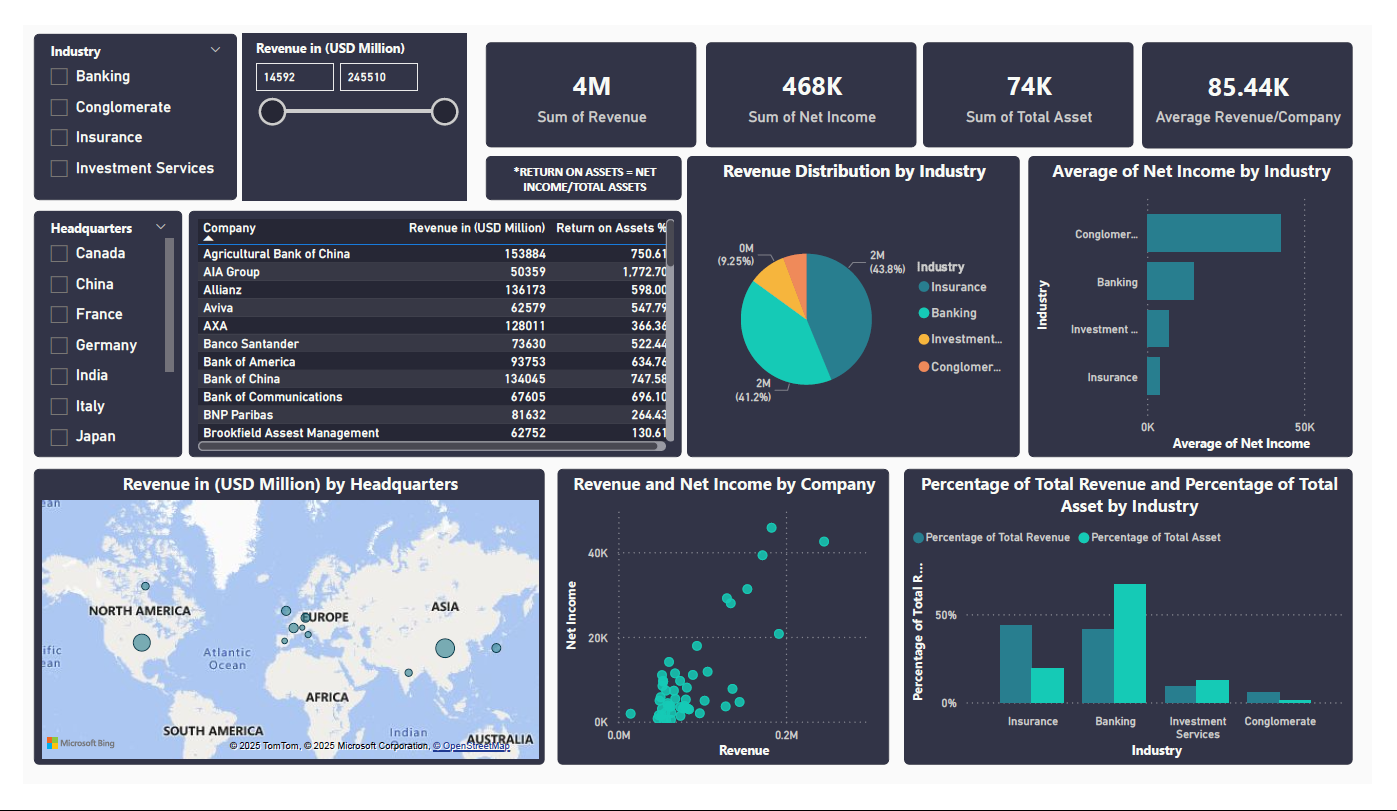

This screenshot's page, from the dashboard's own definition file:
{"tool":"powerbi","page":{"name":"Page 1","canvas":[1280,720],"ordinal":0},"visuals":[{"type":"card","fields":{"Values":["Sum(Table1.Total Assest in (USD Millions))"]},"box":[854.2,15.7,200.3,100.1],"z":0},{"type":"card","fields":{"Values":["Sum(Table1.Revenue in (USD Million))"]},"box":[439.1,15.7,200.3,100.1],"z":1000},{"type":"card","fields":{"Values":["Sum(Table1.Net Income in (USD Millions))"]},"box":[647.9,15.7,200.3,100.1],"z":2000},{"type":"card","fields":{"Values":["Avg(Table1.Revenue in (USD Million))"]},"box":[1061.7,15.7,200.3,101.3],"z":3000},{"type":"pieChart","fields":{"Category":["Table1.Industry"],"Y":["Sum(Table1.Revenue in (USD Million))"]},"box":[629.8,124.3,316.1,285.9],"z":4000},{"type":"clusteredBarChart","fields":{"Category":["Table1.Industry"],"Y":["Avg(Table1.Net Income in (USD Millions))"]},"box":[954.3,124.3,307.6,285.9],"z":5000},{"type":"clusteredColumnChart","fields":{"Category":["Table1.Industry"],"Y":["Sum(Table1.Revenue in (USD Million))","Sum(Table1.Total Assest in (USD Millions))"]},"box":[836.1,421,425.9,281.1],"z":6000},{"type":"map","title":"Revenue in (USD Million) by Headquarters","fields":{"Category":["Table1.Headquarters"],"Size":["Sum(Table1.Revenue in (USD Million))"]},"box":[9.7,421,485,281.1],"z":7000},{"type":"tableEx","fields":{"Values":["Table1.Company","Table1.Revenue in (USD Million)","Table1.Return on Assets %"]},"box":[156.8,176.1,468.1,234],"z":8000},{"type":"scatterChart","fields":{"X":["Sum(Table1.Revenue in (USD Million))"],"Y":["Sum(Table1.Net Income in (USD Millions))"],"Category":["Table1.Company"]},"box":[506.7,421,314.9,281.1],"z":9000},{"type":"slicer","fields":{"Values":["Table1.Industry"]},"box":[9.7,8.4,193,158],"z":10000},{"type":"slicer","fields":{"Values":["Table1.Headquarters"]},"box":[9.7,176.1,141.2,234],"z":11000},{"type":"slicer","fields":{"Values":["Table1.Revenue in (USD Million)"]},"box":[207.5,8.4,213.5,158],"z":12000},{"type":"textbox","box":[439.1,124.3,185.8,42.2],"z":13001}]}

Visuals, with their boxes in screenshot pixels (x1, y1, x2, y2):
card - Sum(Table1.Total Assest in (USD Millions)): bbox=[912, 45, 1120, 149]
card - Sum(Table1.Revenue in (USD Million)): bbox=[481, 45, 689, 149]
card - Sum(Table1.Net Income in (USD Millions)): bbox=[698, 45, 906, 149]
card - Avg(Table1.Revenue in (USD Million)): bbox=[1128, 45, 1336, 151]
pieChart - Table1.Industry x Sum(Table1.Revenue in (USD Million)): bbox=[679, 158, 1007, 455]
clusteredBarChart - Table1.Industry x Avg(Table1.Net Income in (USD Millions)): bbox=[1016, 158, 1336, 455]
clusteredColumnChart - Table1.Industry x Sum(Table1.Revenue in (USD Million)): bbox=[893, 466, 1336, 758]
"Revenue in (USD Million) by Headquarters" map: bbox=[36, 466, 539, 758]
tableEx - Table1.Company x Table1.Revenue in (USD Million): bbox=[188, 212, 674, 455]
scatterChart - Sum(Table1.Revenue in (USD Million)) x Sum(Table1.Net Income in (USD Millions)): bbox=[552, 466, 878, 758]
slicer - Table1.Industry: bbox=[36, 38, 236, 202]
slicer - Table1.Headquarters: bbox=[36, 212, 182, 455]
slicer - Table1.Revenue in (USD Million): bbox=[241, 38, 463, 202]
textbox: bbox=[481, 158, 674, 202]
